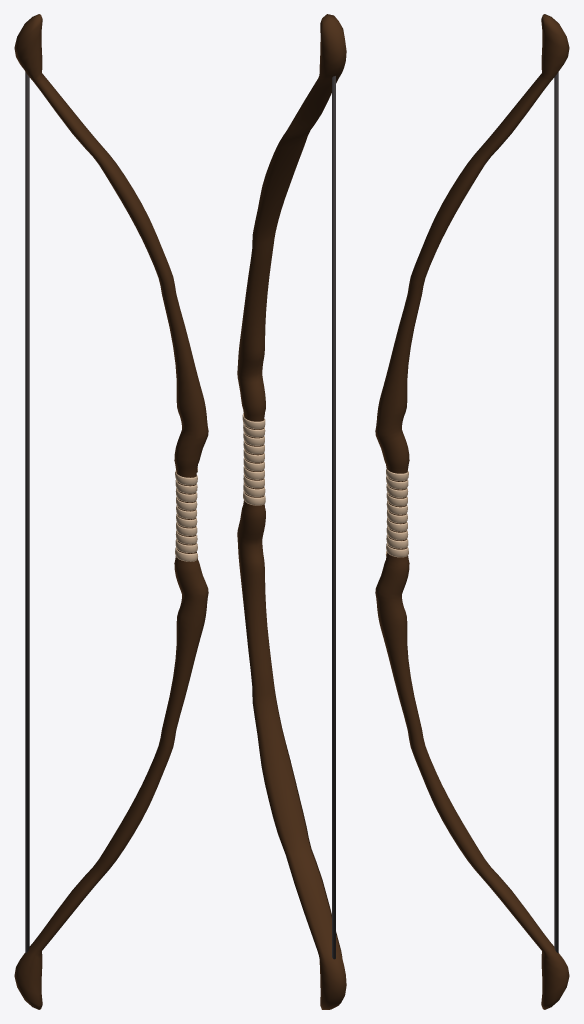
The model's file is Bow_B.fbx.
3 renders of one model, left to right at view 1: azimuth 90°, elevation 25°; view 2: azimuth 210°, elevation 25°; view 3: azimuth 270°, elevation 25°, orthographic.
Visible parts, largest first — view 1: Base_Bow; view 2: Base_Bow; view 3: Base_Bow.
Part boxes in pixels (x1=…): Base_Bow: x1=14, y1=14, x2=208, y2=1009; Base_Bow: x1=237, y1=14, x2=346, y2=1009; Base_Bow: x1=375, y1=14, x2=569, y2=1009.
Bounding box in the file's own units: 4.46 × 142 × 25.15.
